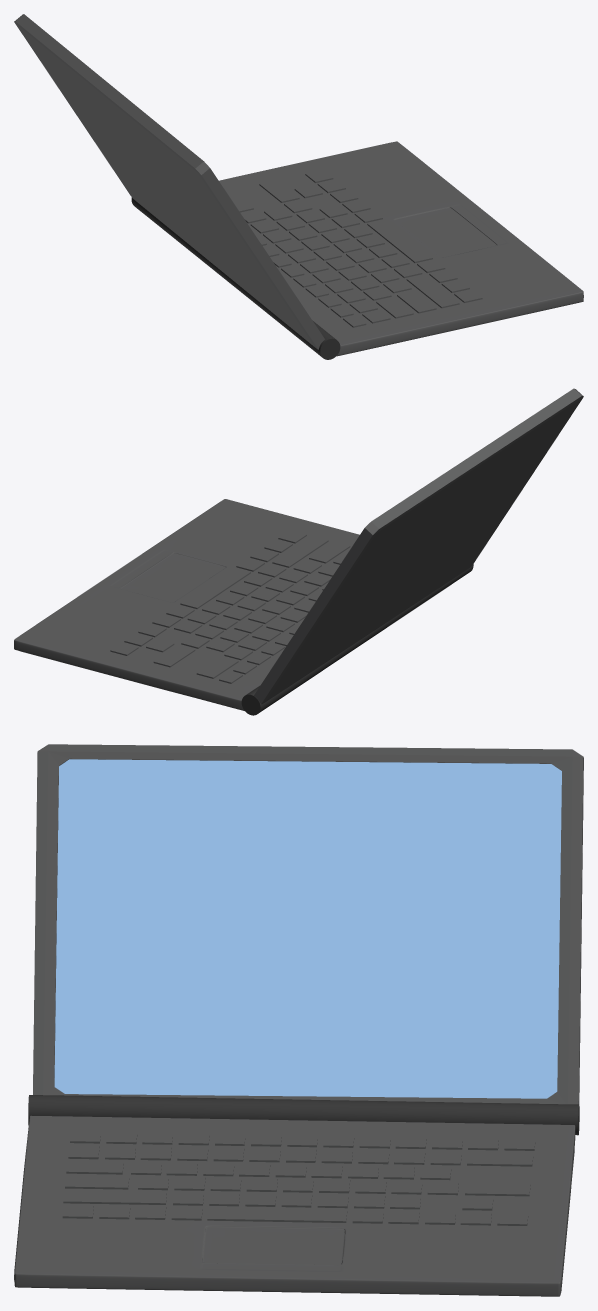
The model's file is laptop.gltf.
3 renders of one model, top to bottom at view 1: azimuth 30°, elevation 25°; view 2: azimuth 150°, elevation 25°; view 3: azimuth 270°, elevation 25°, orthographic. The views are drawn at different scales.
Parts seen in each view (by area): view 1: Cylinder.025; view 2: Cylinder.025; view 3: Cylinder.025.
Boxes of the visible parts, x1,y1,x2,y2 form: Cylinder.025: (14,14,583,359); Cylinder.025: (14,388,583,715); Cylinder.025: (14,744,583,1296).
Bounding box in the file's own units: 0.9246 × 0.5087 × 0.8619.
